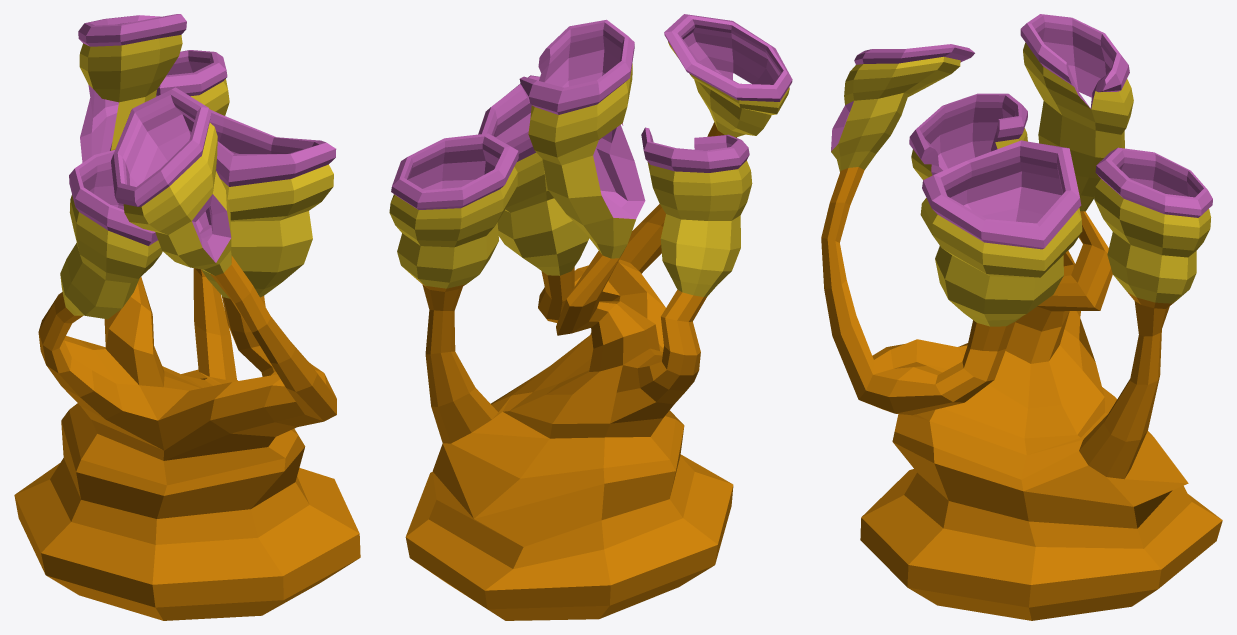
Rendered from Tree_16_Var_03.fbx.
3 renders of one model, left to right at view 1: azimuth 30°, elevation 25°; view 2: azimuth 150°, elevation 25°; view 3: azimuth 270°, elevation 25°, orthographic. The views are drawn at different scales.
Parts seen in each view (by area): view 1: Tree_16_Var_03; view 2: Tree_16_Var_03; view 3: Tree_16_Var_03.
Boxes of the visible parts, <box> form: Tree_16_Var_03: <box>14,14,360,620</box>; Tree_16_Var_03: <box>389,14,792,620</box>; Tree_16_Var_03: <box>821,14,1222,620</box>.
Size of the model in its own units: 2.39 by 3.53 by 1.92.
